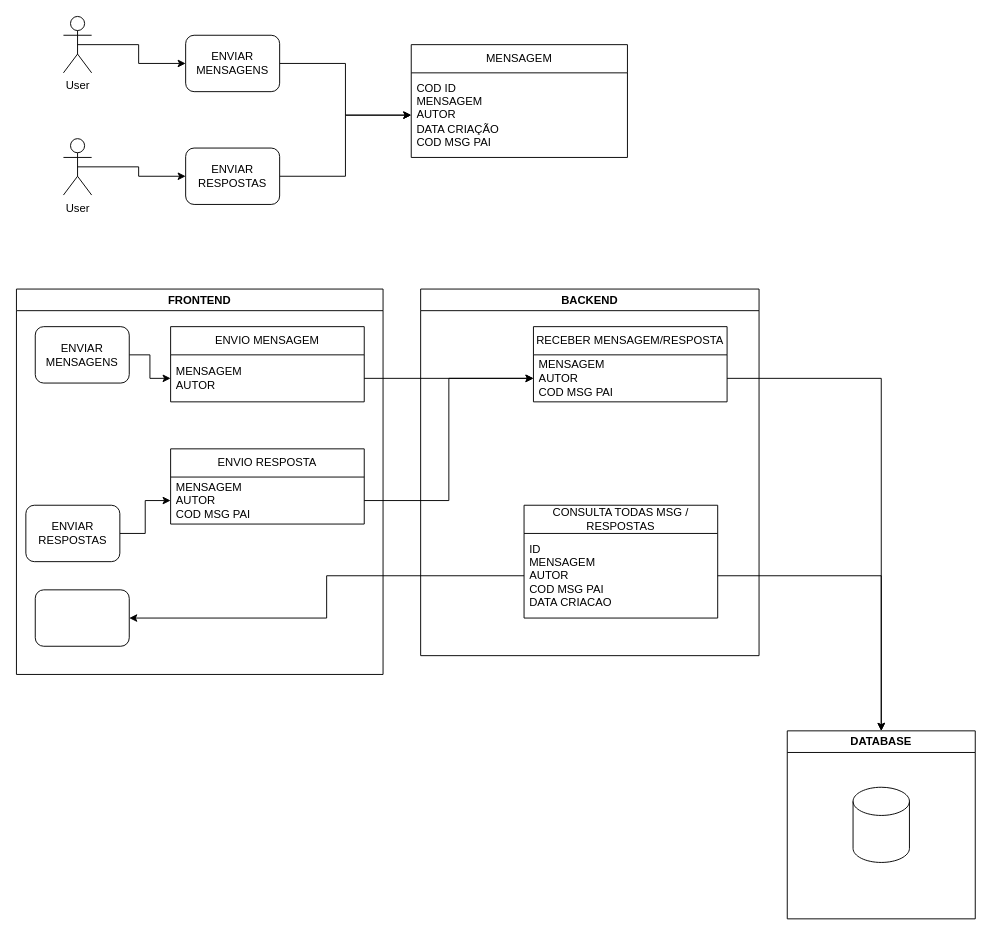
This 992x935 diagram has some shape labels left out. Each missing label, with the centre of its shape:
"LISTA DE MSGS" goes at (x=81, y=617).
"TB_MSGS" goes at (x=880, y=824).
